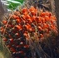PalmFruit: (2, 7, 56, 48)
